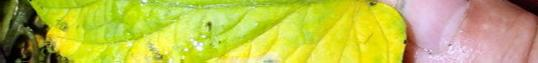Tomato Early blight leaf: (12, 0, 402, 63)
